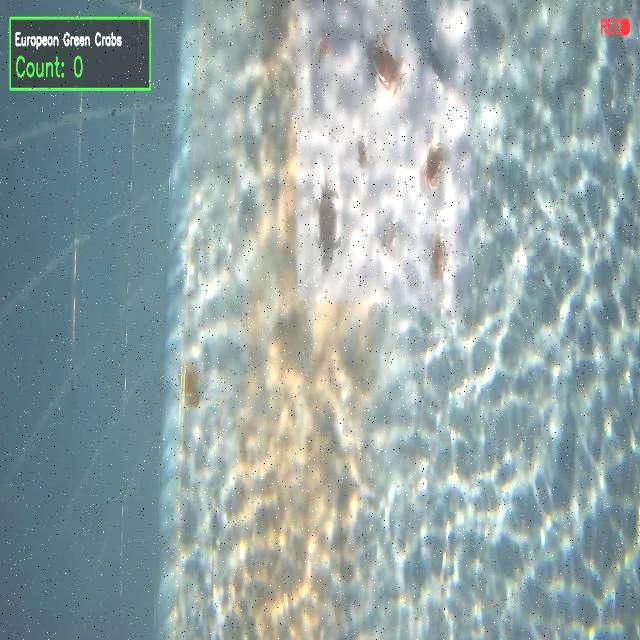European_Green_Crab: (308, 176, 342, 279), (424, 39, 452, 90), (377, 206, 401, 260)
